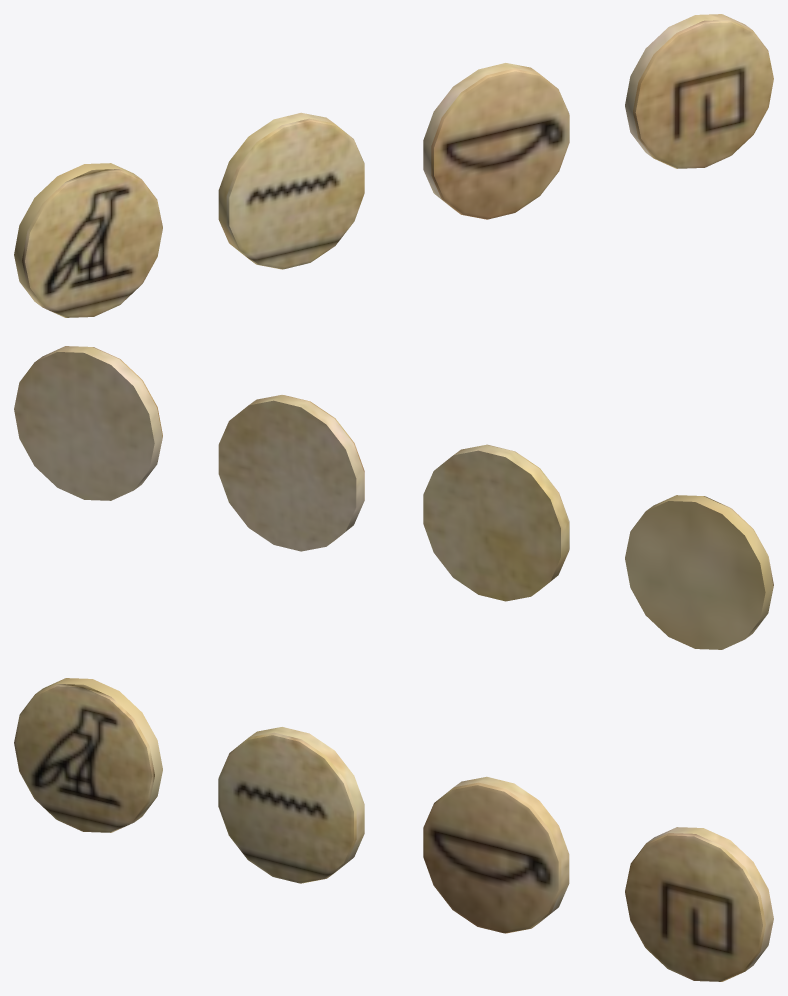
Rendered from Final Door Stone Tablets ANKH.fbx.
3 renders of one model, top to bottom at view 1: azimuth 30°, elevation 25°; view 2: azimuth 150°, elevation 25°; view 3: azimuth 330°, elevation 25°, orthographic.
Visible parts, largest first — view 1: Final Door A, Final Door H, Final Door K, Final Door N; view 2: Final Door A, Final Door H, Final Door K, Final Door N; view 3: Final Door A, Final Door H, Final Door N, Final Door K.
Part boxes in pixels (<box>): Final Door A: <box>14,163,162,317</box>; Final Door H: <box>625,14,773,168</box>; Final Door K: <box>423,63,569,219</box>; Final Door N: <box>218,112,364,269</box>; Final Door A: <box>625,495,773,649</box>; Final Door H: <box>14,346,162,500</box>; Final Door K: <box>218,395,364,551</box>; Final Door N: <box>423,444,569,601</box>; Final Door A: <box>14,678,162,832</box>; Final Door H: <box>625,827,773,981</box>; Final Door N: <box>218,727,364,883</box>; Final Door K: <box>423,776,569,933</box>.
Bounding box in the file's own units: 145 × 27.17 × 3.47.
